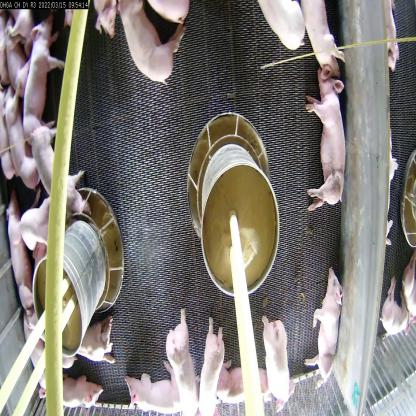Pig: (301, 54, 351, 221), (116, 0, 191, 92), (32, 124, 94, 222), (22, 11, 66, 146), (1, 183, 42, 312), (302, 260, 339, 387), (204, 347, 279, 409), (6, 80, 45, 198), (119, 362, 198, 416), (163, 300, 199, 416), (33, 358, 103, 416), (259, 311, 296, 411), (199, 313, 224, 416), (386, 266, 412, 343), (92, 0, 119, 39)
